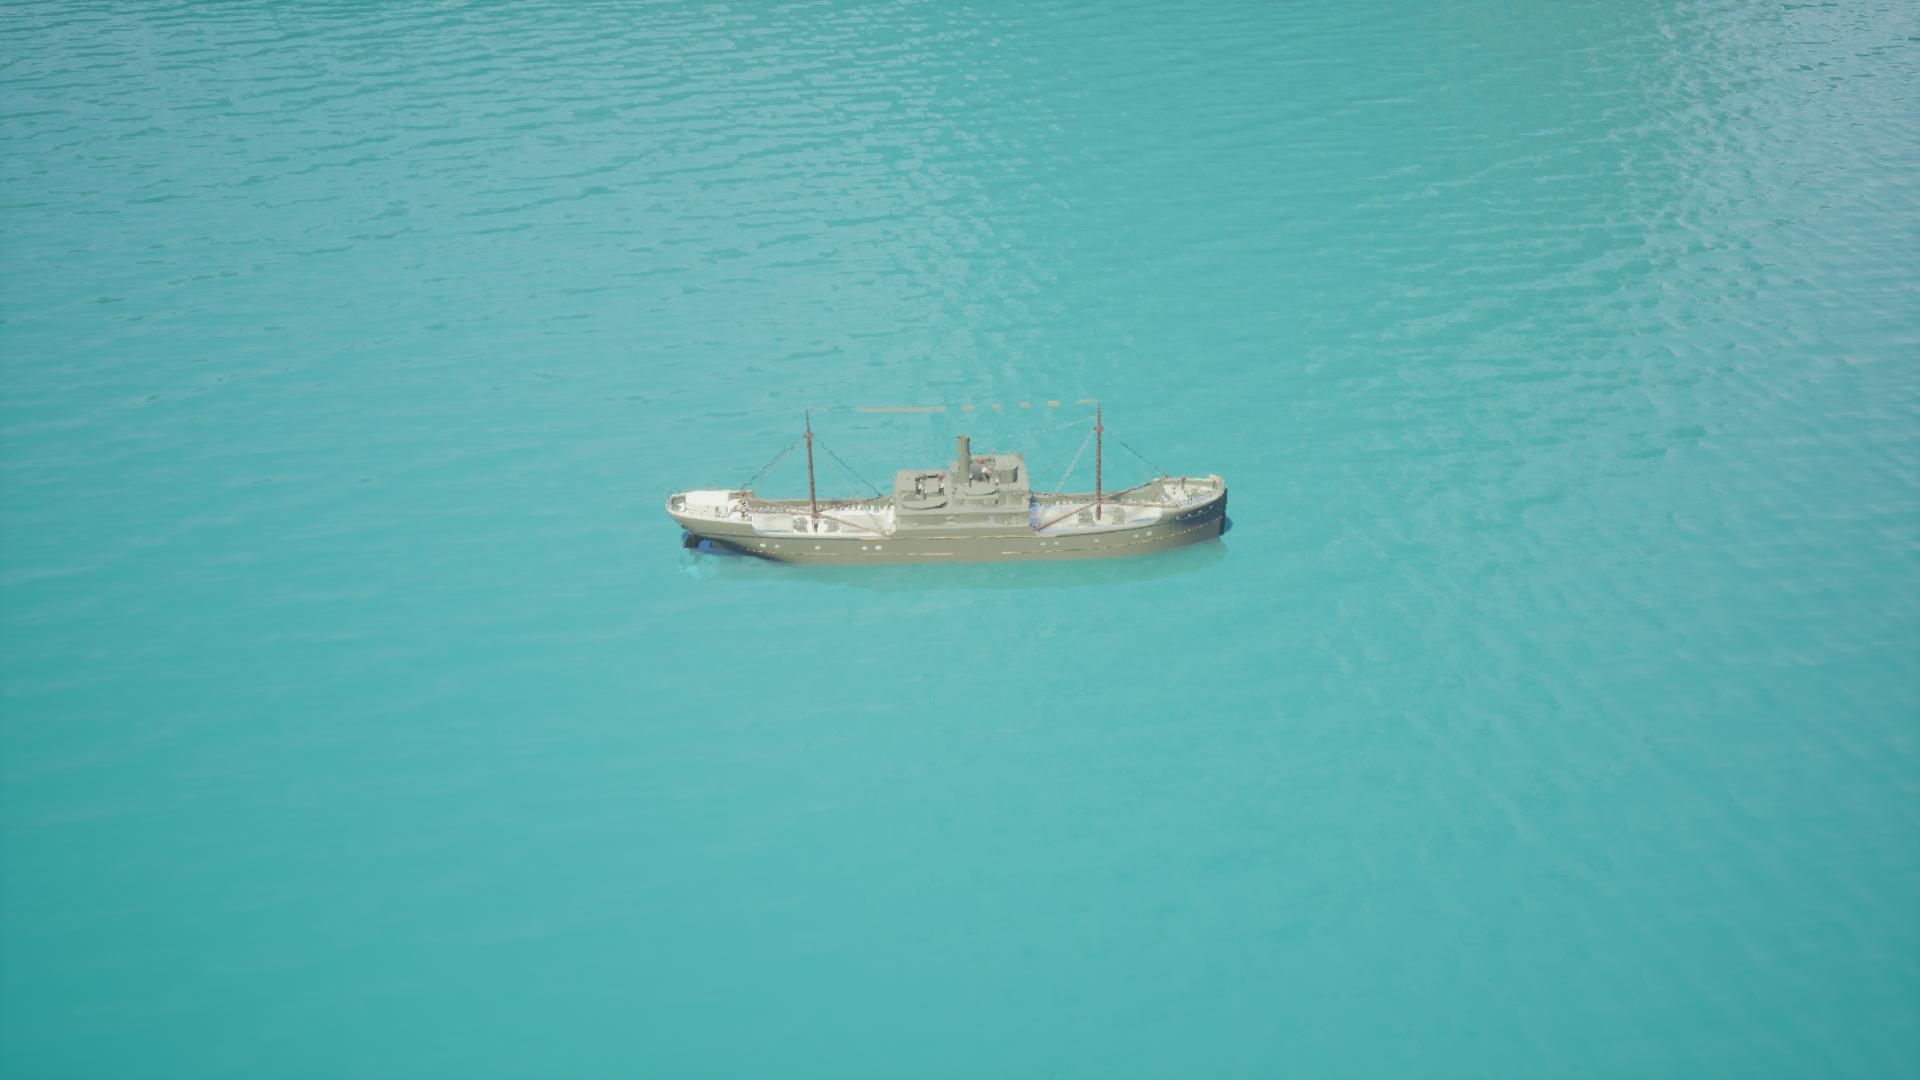Fishing Boat: (665, 407, 1229, 568)
